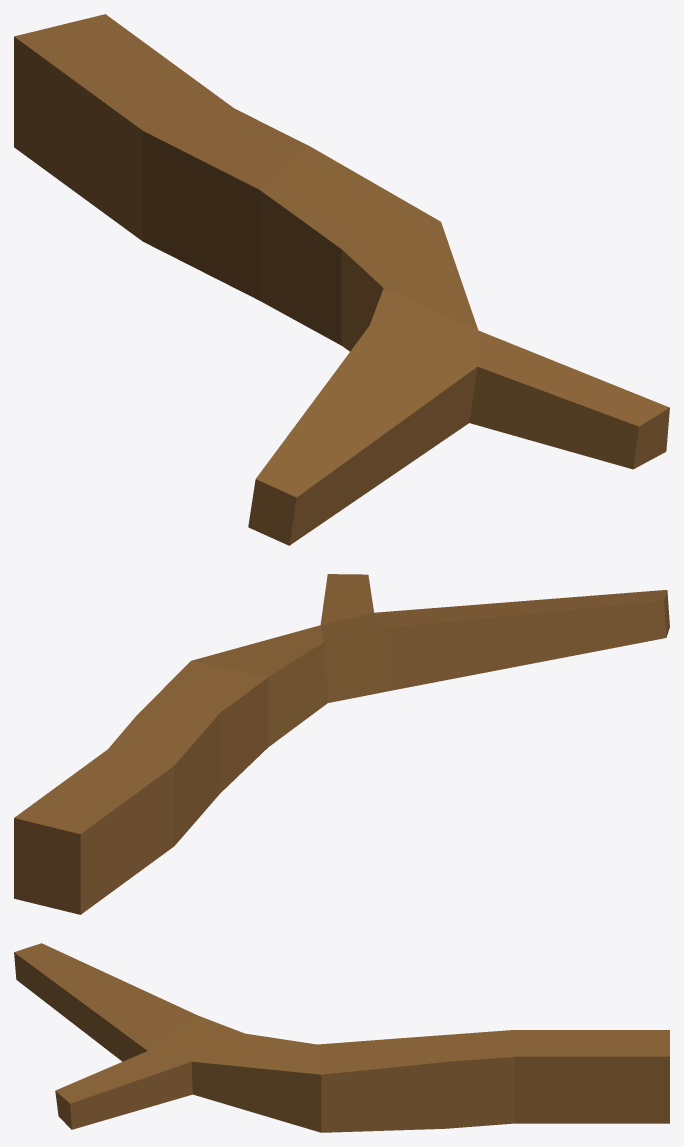
The model's file is Stick 5.fbx.
The picture shows the model from 3 angles, top to bottom: view 1: azimuth 30°, elevation 25°; view 2: azimuth 150°, elevation 25°; view 3: azimuth 270°, elevation 25°; orthographic projection. The views are drawn at different scales.
Visible parts, largest first — view 1: Cube.004; view 2: Cube.004; view 3: Cube.004.
Boxes of the visible parts, <box> form: Cube.004: <box>14,14,669,545</box>; Cube.004: <box>14,574,669,914</box>; Cube.004: <box>14,943,669,1132</box>.
Size of the model in its own units: 90.54 by 23.06 by 192.
